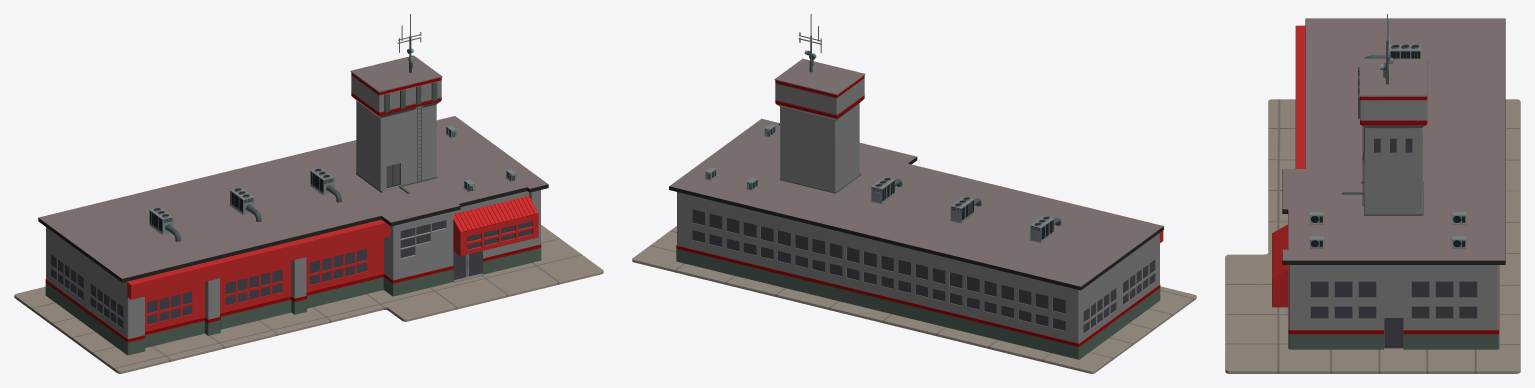
The model's file is building.glb.
The picture shows the model from 3 angles, left to right: view 1: azimuth 30°, elevation 25°; view 2: azimuth 150°, elevation 25°; view 3: azimuth 270°, elevation 25°; orthographic projection. The views are drawn at different scales.
Visible parts, largest first — view 1: fire_station.1; view 2: fire_station.1; view 3: fire_station.1.
Boxes of the visible parts, left/top/right/bottom form: fire_station.1: left=14, top=14, right=603, bottom=373; fire_station.1: left=632, top=14, right=1196, bottom=373; fire_station.1: left=1225, top=14, right=1520, bottom=373.
Bounding box in the file's own units: 10.41 × 5.11 × 4.77.
1 material, 1 textured.
